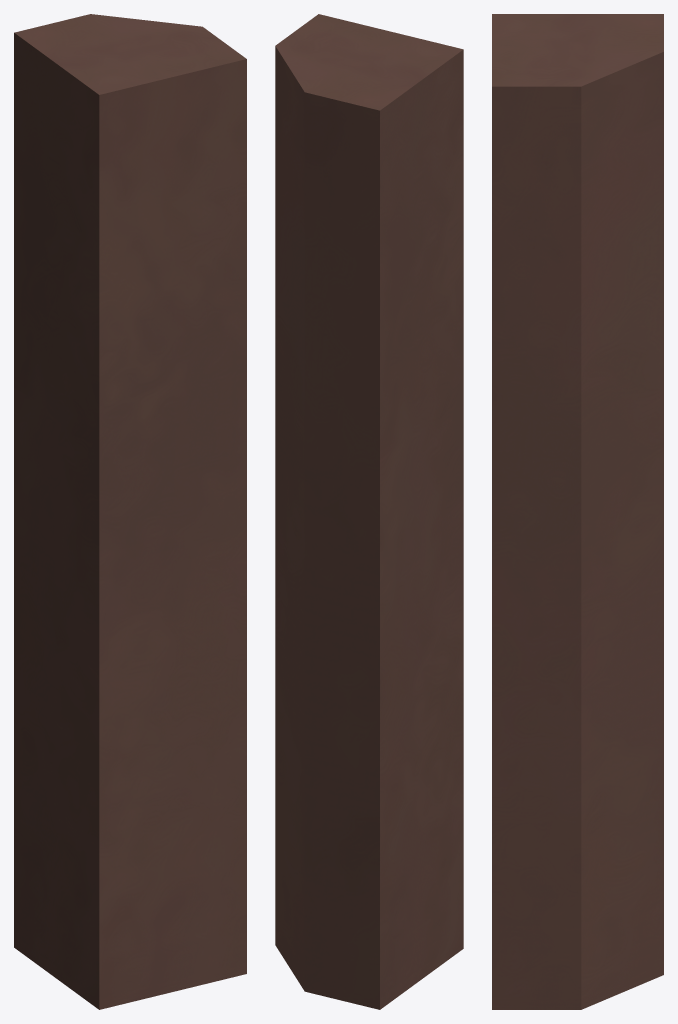
Rendered from CORNER.fbx.
3 views of the same model, side by side, from view 1: azimuth 30°, elevation 25°; view 2: azimuth 150°, elevation 25°; view 3: azimuth 270°, elevation 25° (orthographic). The views are drawn at different scales.
Visible parts, largest first — view 1: Cube; view 2: Cube; view 3: Cube.
Part boxes in pixels (x1,y1,x2,y2): Cube: (14, 14, 246, 1009); Cube: (275, 14, 463, 1009); Cube: (492, 14, 663, 1009).
Size of the model in its own units: 270 by 1600 by 270.
